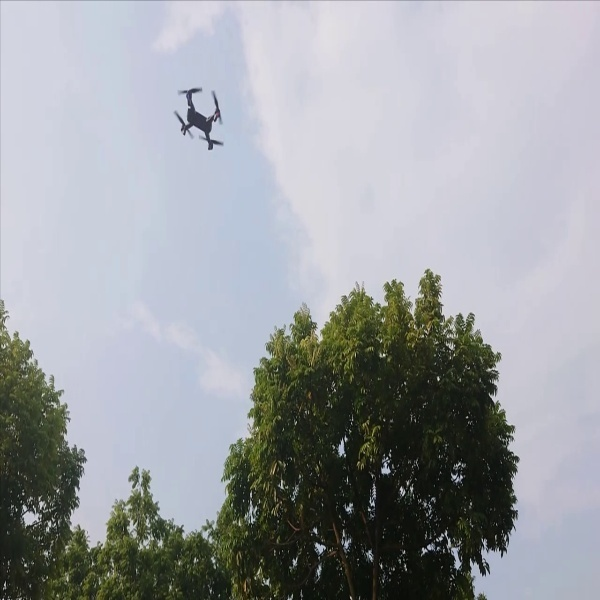drone: (164, 68, 242, 158)
